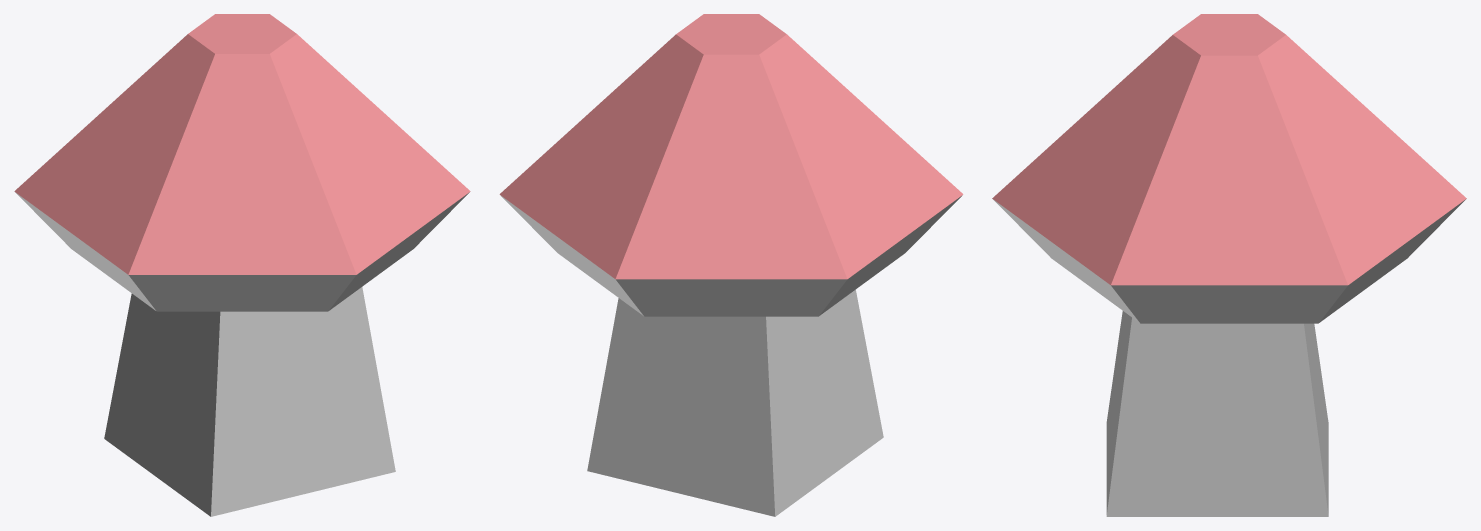
The model's file is mushroom_red.gltf.
3 renders of one model, left to right at view 1: azimuth 30°, elevation 25°; view 2: azimuth 150°, elevation 25°; view 3: azimuth 270°, elevation 25°, orthographic. The views are drawn at different scales.
Visible parts, largest first — view 1: mushroom_red; view 2: mushroom_red; view 3: mushroom_red.
Boxes of the visible parts, left/top/right/bottom form: mushroom_red: left=14, top=14, right=470, bottom=516; mushroom_red: left=499, top=14, right=963, bottom=516; mushroom_red: left=992, top=14, right=1466, bottom=516.
Bounding box in the file's own units: 0.174 × 0.2028 × 0.2009.
